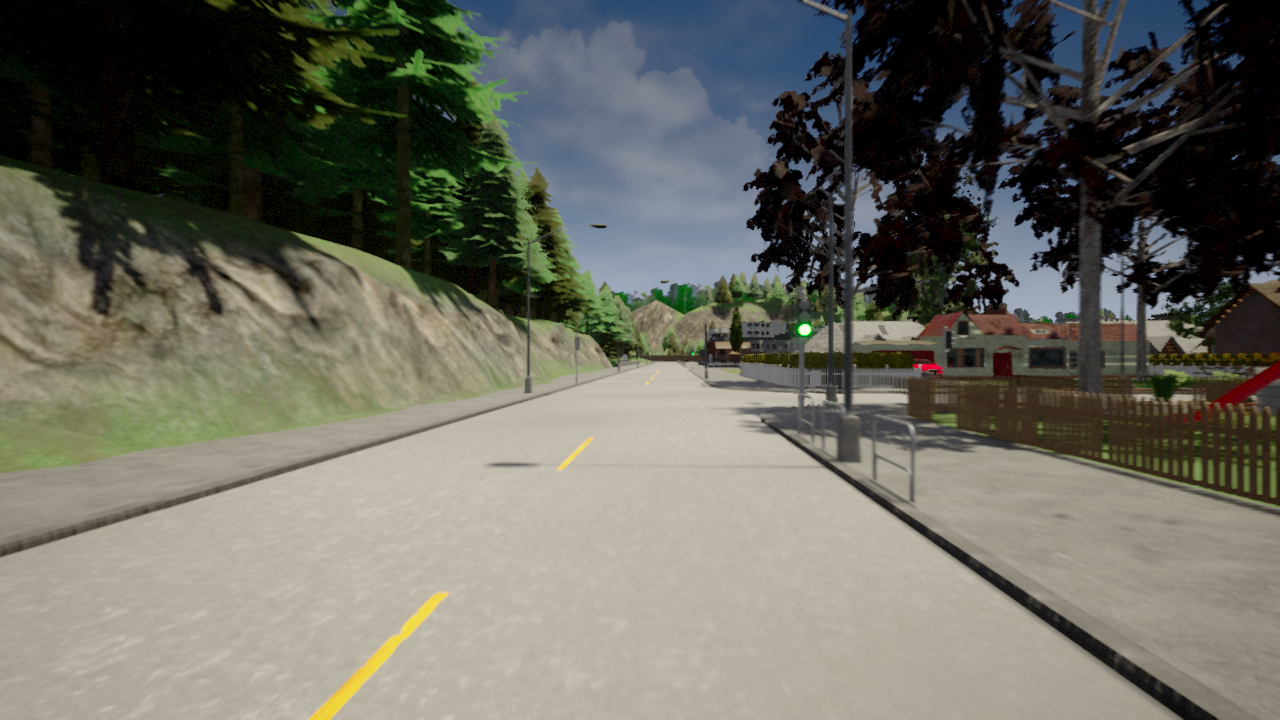green: (796, 297, 812, 336)
